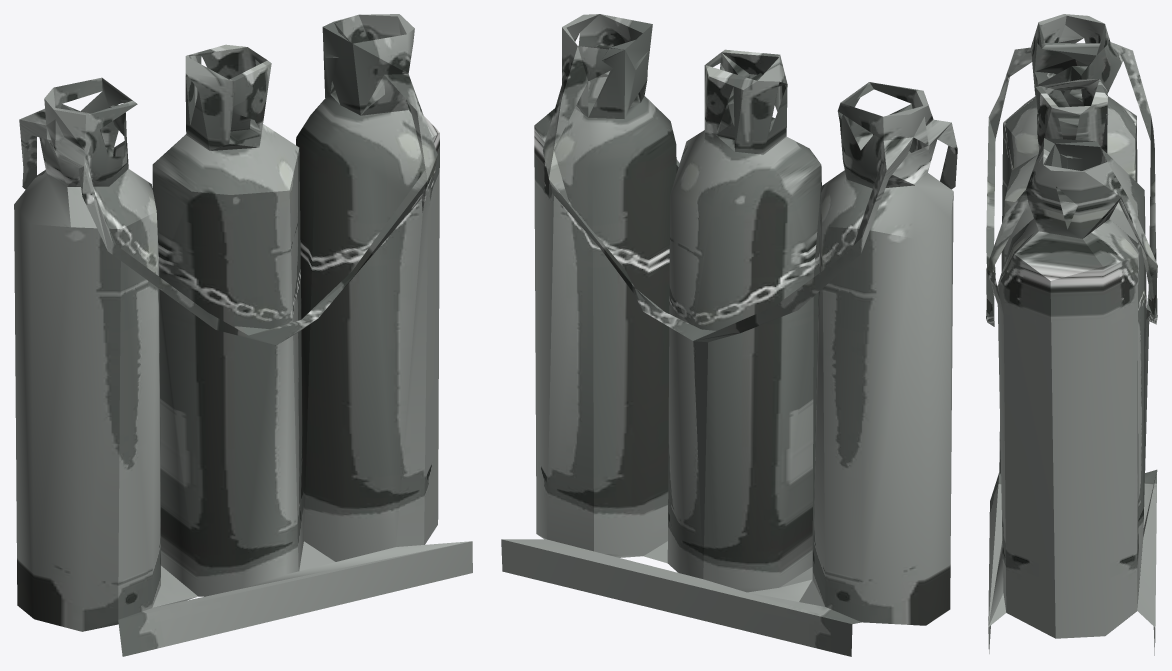
The picture shows the model from 3 angles, left to right: view 1: azimuth 30°, elevation 25°; view 2: azimuth 150°, elevation 25°; view 3: azimuth 270°, elevation 25°; orthographic projection. The views are drawn at different scales.
Visible parts, largest first — view 1: Decor_gas_cylinders_a; view 2: Decor_gas_cylinders_a; view 3: Decor_gas_cylinders_a.
Part boxes in pixels (<box>): Decor_gas_cylinders_a: <box>14,14,472,656</box>; Decor_gas_cylinders_a: <box>501,14,957,656</box>; Decor_gas_cylinders_a: <box>986,14,1157,655</box>.
Size of the model in its own units: 1.11 by 1.39 by 0.4526.
Materials: 1 (1 with a texture image).
